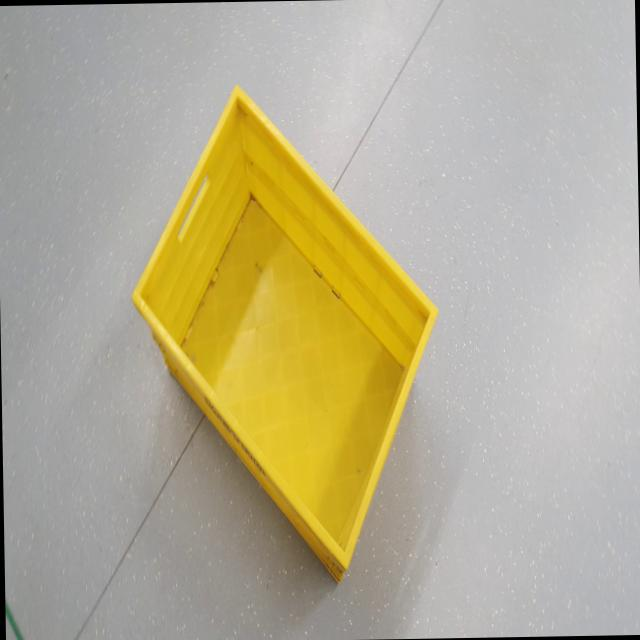box: (120, 74, 443, 607)
